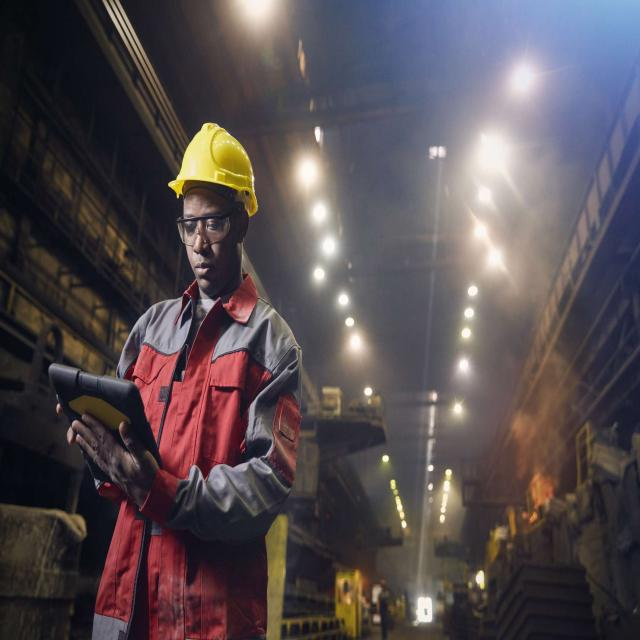Reflective-Jacket: (90, 276, 302, 633)
Safety-Helmet: (168, 119, 261, 213)
